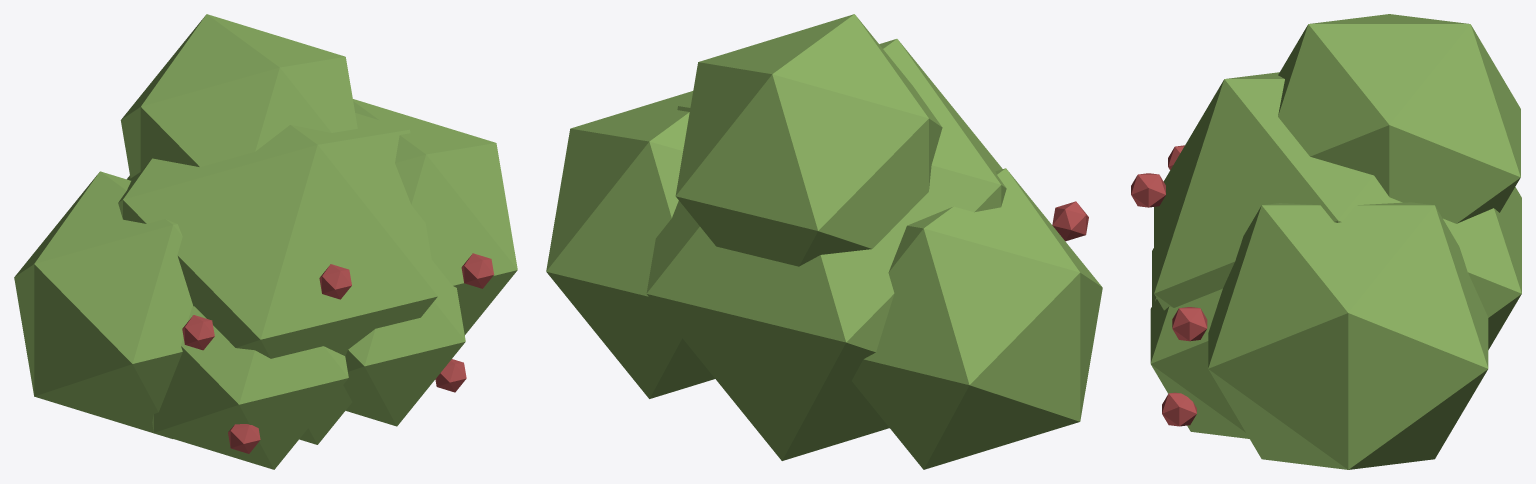
The model's file is canopy.glb.
3 views of the same model, side by side, from view 1: azimuth 30°, elevation 25°; view 2: azimuth 150°, elevation 25°; view 3: azimuth 270°, elevation 25° (orthographic). The views are drawn at different scales.
Visible parts, largest first — view 1: Lump0; view 2: Lump0; view 3: Lump0.
Boxes of the visible parts, <box> form: Lump0: <box>14,14,517,469</box>; Lump0: <box>546,14,1102,469</box>; Lump0: <box>1131,14,1521,469</box>.
Bounding box in the file's own units: 2.85 × 2.09 × 1.9.
